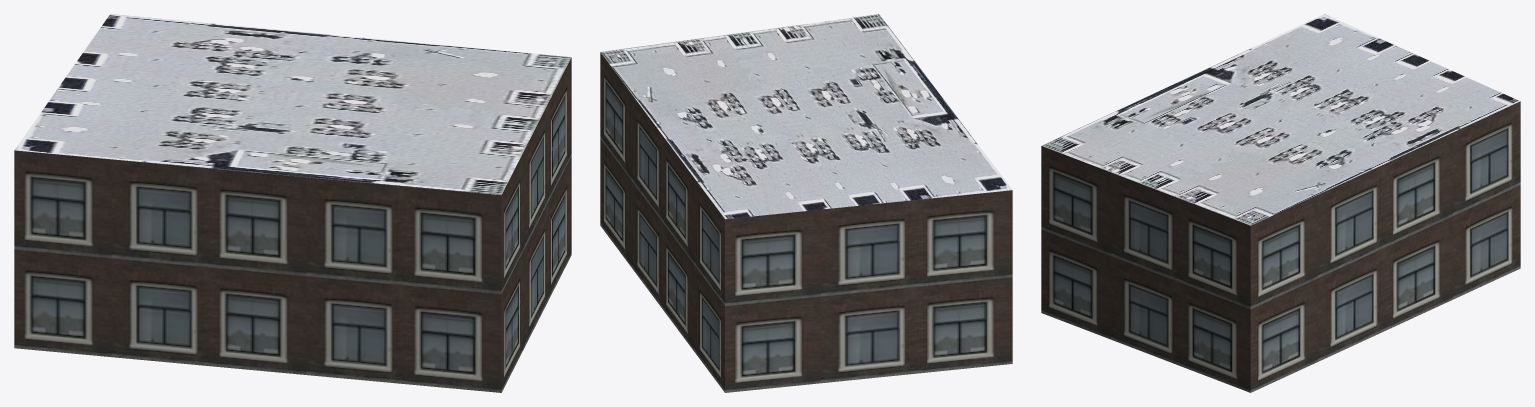
Rendered from ResTex__1564.fbx.
3 renders of one model, left to right at view 1: azimuth 30°, elevation 25°; view 2: azimuth 150°, elevation 25°; view 3: azimuth 270°, elevation 25°, orthographic. The views are drawn at different scales.
Parts seen in each view (by area): view 1: CityEngineMaterial_16_m, CityEngineMaterial_15_m; view 2: CityEngineMaterial_16_m, CityEngineMaterial_15_m; view 3: CityEngineMaterial_16_m, CityEngineMaterial_15_m.
Part boxes in pixels (box(x1,y1,x2,y2)): CityEngineMaterial_16_m: box(14, 57, 571, 392); CityEngineMaterial_15_m: box(15, 14, 571, 194); CityEngineMaterial_16_m: box(600, 52, 1012, 392); CityEngineMaterial_15_m: box(600, 14, 1012, 219); CityEngineMaterial_16_m: box(1041, 101, 1520, 392); CityEngineMaterial_15_m: box(1041, 14, 1519, 225).
Size of the model in its own units: 16.29 by 6 by 15.58.
2 materials, 2 textured.
